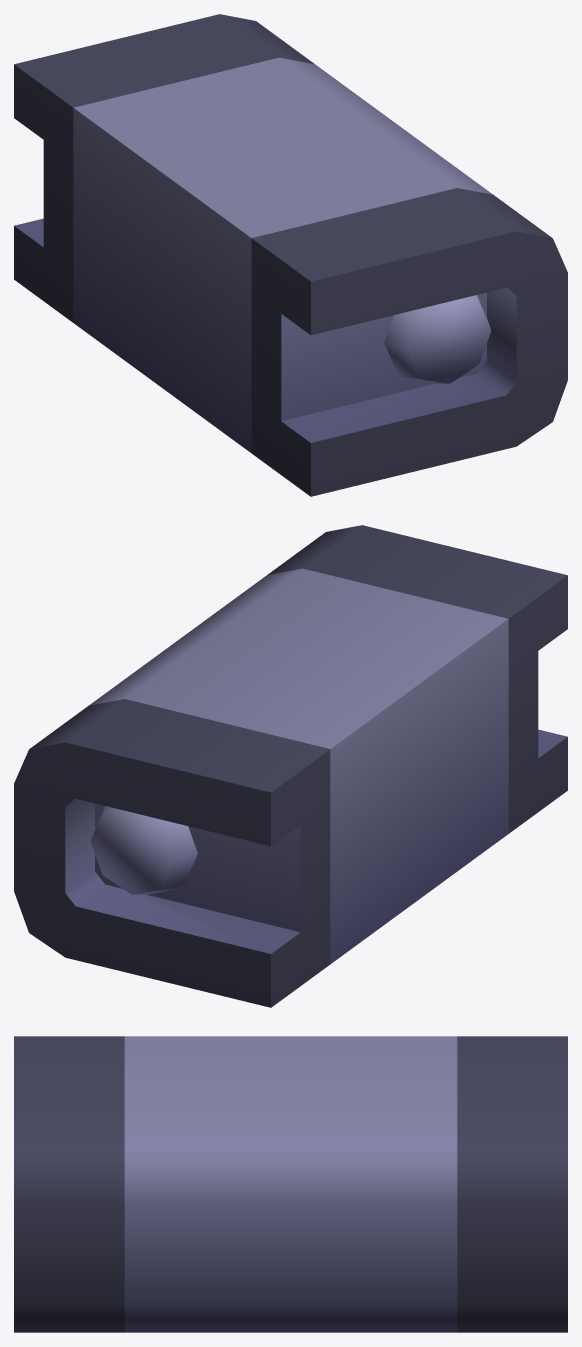
File: kenney-factory-conveyor-stripe-part-end.glb
The picture shows the model from 3 angles, top to bottom: view 1: azimuth 30°, elevation 25°; view 2: azimuth 150°, elevation 25°; view 3: azimuth 270°, elevation 25°; orthographic projection. The views are drawn at different scales.
Visible parts, largest first — view 1: conveyor-stripe-part-end; view 2: conveyor-stripe-part-end; view 3: conveyor-stripe-part-end.
Boxes of the visible parts, x1,y1,x2,y2 form: conveyor-stripe-part-end: (14, 14, 567, 496); conveyor-stripe-part-end: (14, 525, 567, 1007); conveyor-stripe-part-end: (14, 1036, 567, 1332).
Size of the model in its own units: 0.75 by 0.6 by 1.5.
1 material, 1 textured.
